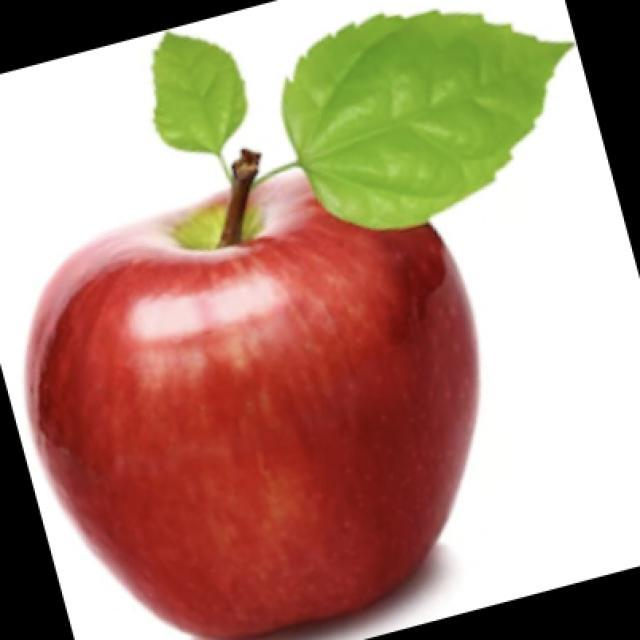Fresh Apple: (21, 168, 486, 622)
